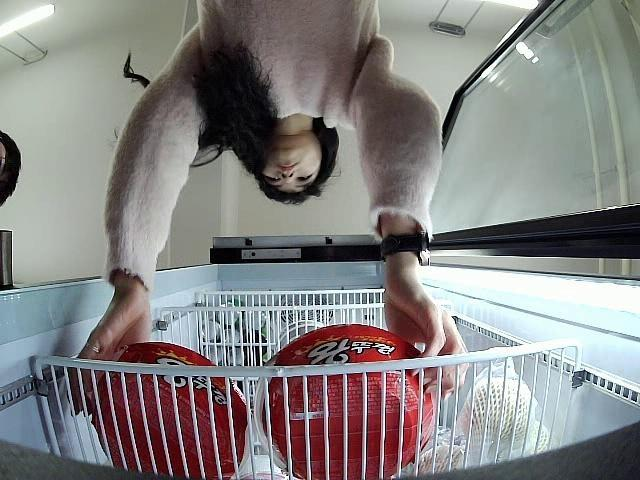10_wangTtukkeong: (256, 323, 441, 480), (91, 341, 250, 480)
